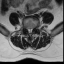CCS_normal: (29, 26, 31, 35)
LFS_severe_stenosis: (32, 24, 34, 30)
LLS_normal: (31, 26, 32, 34)
RFS_stenosis: (25, 24, 27, 31)
RLS_normal: (27, 26, 29, 33)
